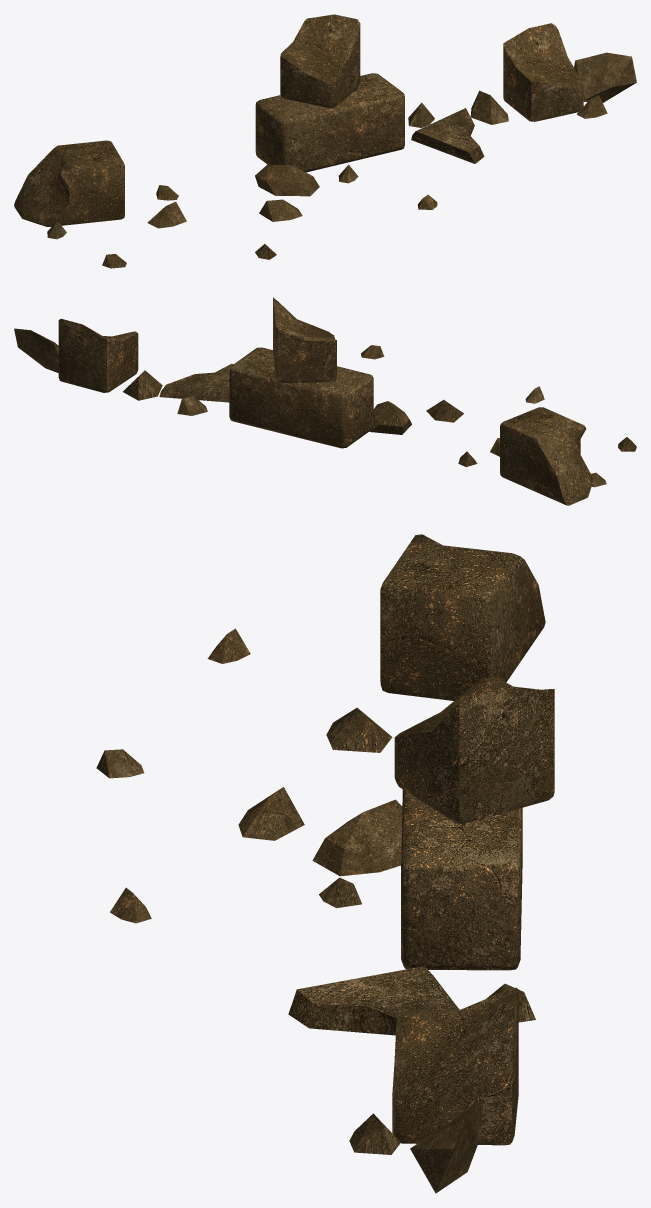
Rendered from DG_StoneFrags_A.FBX.
The picture shows the model from 3 angles, top to bottom: view 1: azimuth 30°, elevation 25°; view 2: azimuth 150°, elevation 25°; view 3: azimuth 270°, elevation 25°; orthographic projection. The views are drawn at different scales.
Visible parts, largest first — view 1: DG_StoneFrags_A; view 2: DG_StoneFrags_A; view 3: DG_StoneFrags_A.
Part boxes in pixels (bbox=[...]): DG_StoneFrags_A: bbox=[14, 14, 636, 268]; DG_StoneFrags_A: bbox=[14, 297, 636, 505]; DG_StoneFrags_A: bbox=[96, 534, 554, 1193].
Size of the model in its own units: 239 by 51.81 by 81.38.
